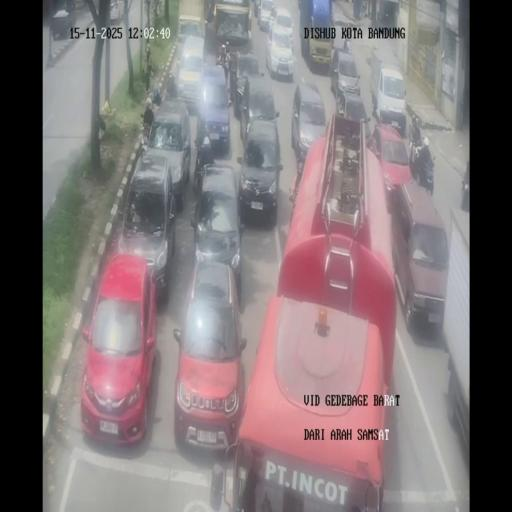car: (80, 251, 159, 444), (172, 261, 247, 454), (388, 179, 447, 335), (118, 155, 179, 296), (190, 163, 244, 289), (239, 116, 283, 224), (368, 122, 413, 206), (291, 78, 327, 172), (196, 66, 232, 151), (176, 35, 206, 111), (230, 51, 263, 115), (330, 44, 359, 102), (266, 26, 295, 80), (336, 90, 369, 133), (51, 0, 76, 40), (176, 14, 202, 45), (258, 0, 275, 27), (108, 0, 124, 22), (253, 0, 261, 18)
motorcycle: (408, 124, 430, 170), (193, 154, 204, 197), (460, 173, 470, 211), (165, 73, 178, 101), (140, 116, 152, 143), (360, 0, 369, 18)
truck: (230, 103, 398, 510), (441, 203, 469, 466), (369, 52, 406, 135), (298, 0, 335, 71), (212, 1, 252, 52)
